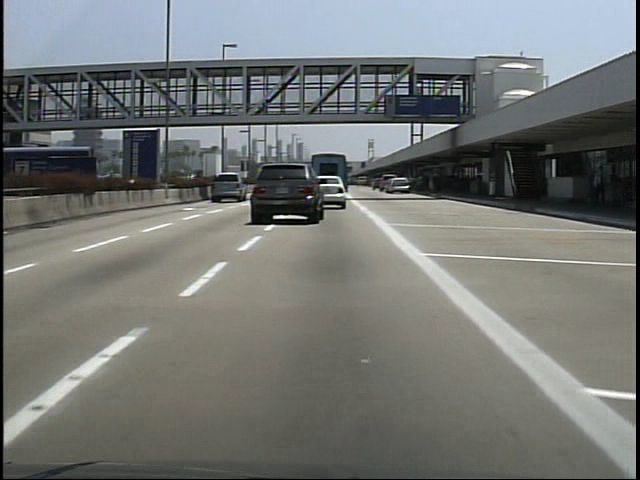person: (587, 165, 608, 212)
